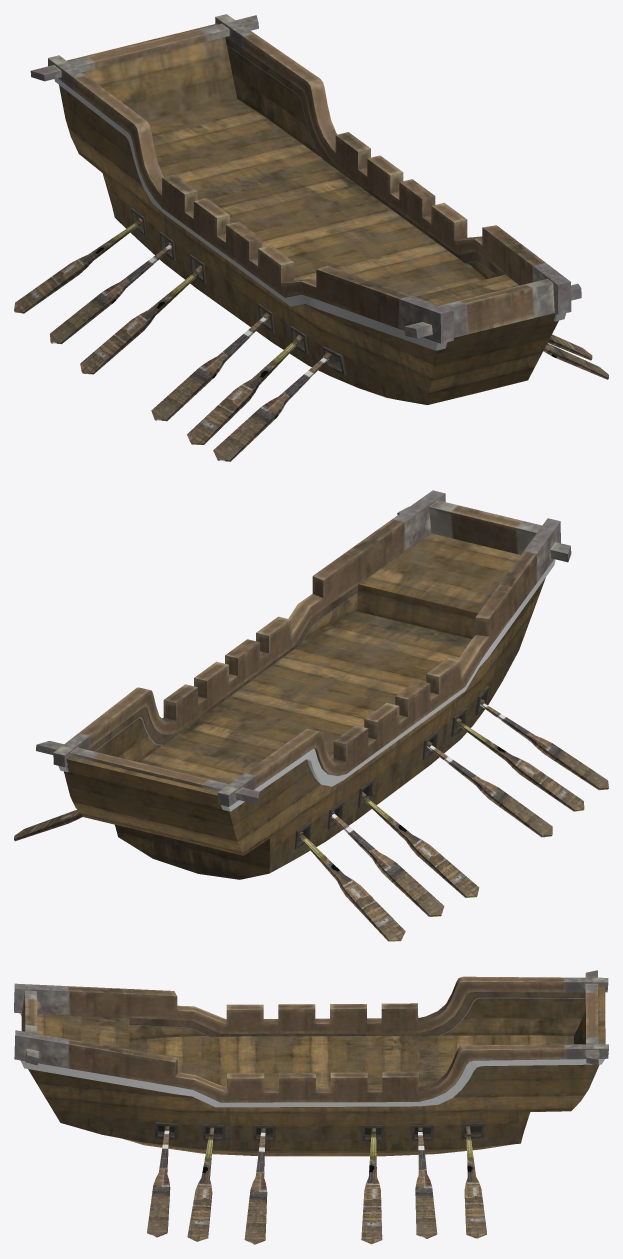
Rendered from body-base.glb.
3 renders of one model, top to bottom at view 1: azimuth 30°, elevation 25°; view 2: azimuth 150°, elevation 25°; view 3: azimuth 270°, elevation 25°, orthographic. The views are drawn at different scales.
Size of the model in its own units: 4.57 by 2.1 by 7.04.
2 materials, 2 textured.
